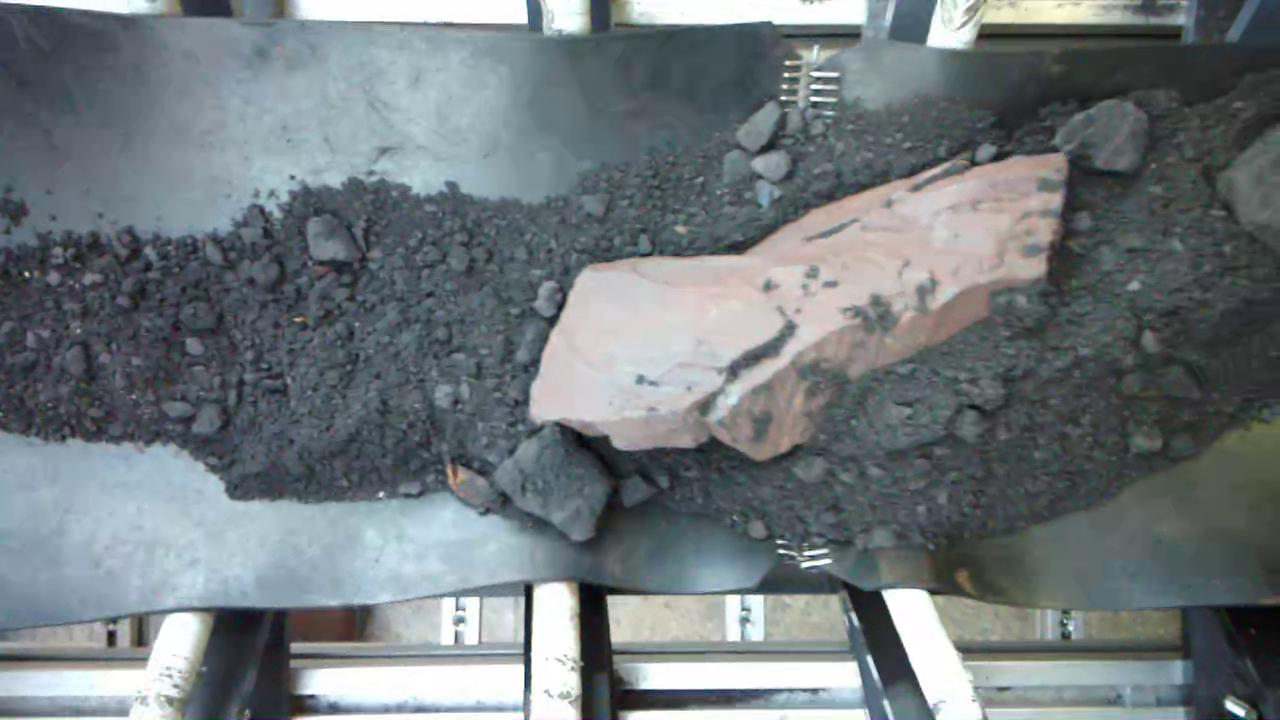conveyor: (9, 36, 1280, 573)
